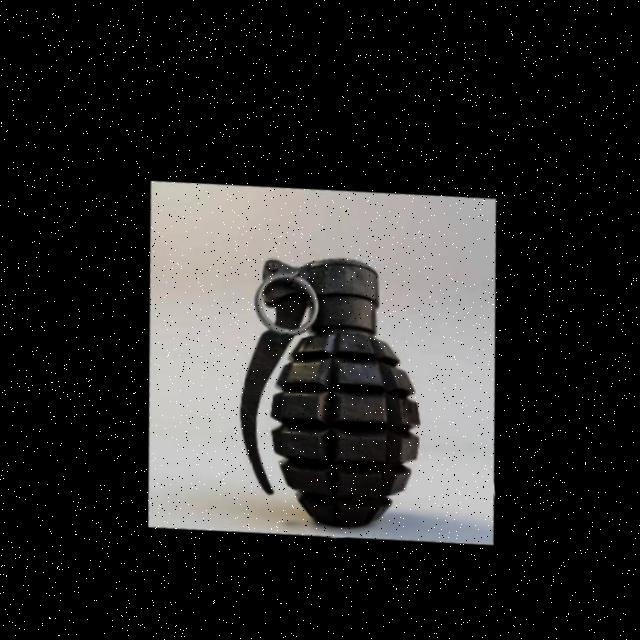grenade: (200, 218, 454, 551)
